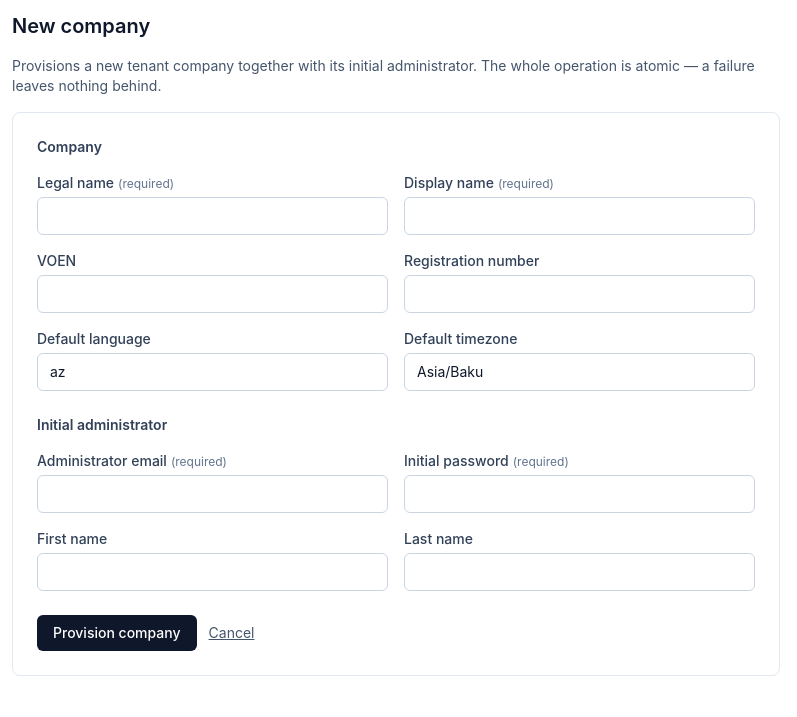
it: AdminCompanyCreatePage › shows backend field errors (duplicate VOEN)
Type "Acme LLC" into the field labelled "Legal name(required)" at (212, 216), box left=37, top=197, right=388, bottom=235
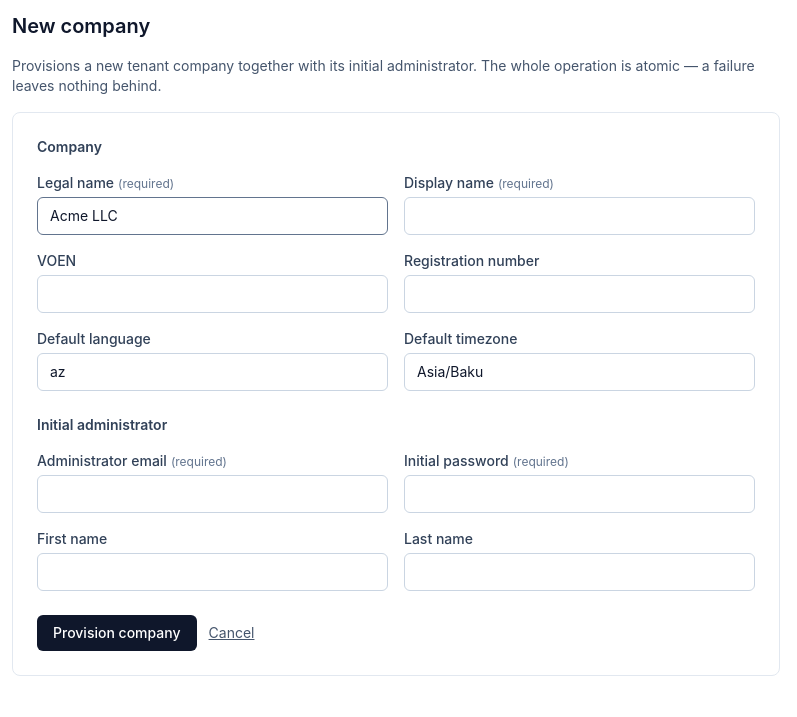
Type "Acme" into the field labelled "Display name(required)" at (580, 216), box left=404, top=197, right=755, bottom=235
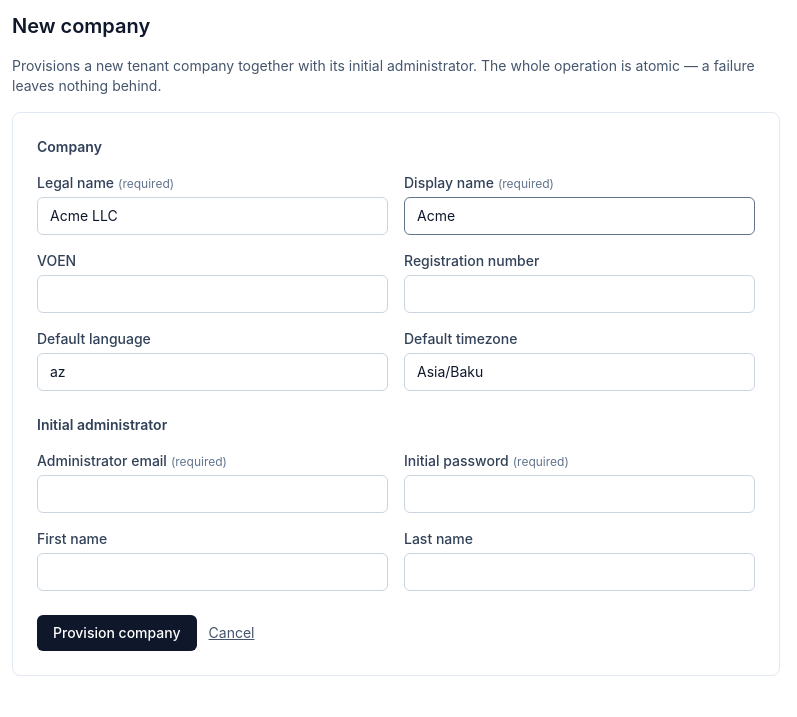
Type "owner@acme.example" into the field labelled "Administrator email(required)" at (212, 494), box left=37, top=475, right=388, bottom=513
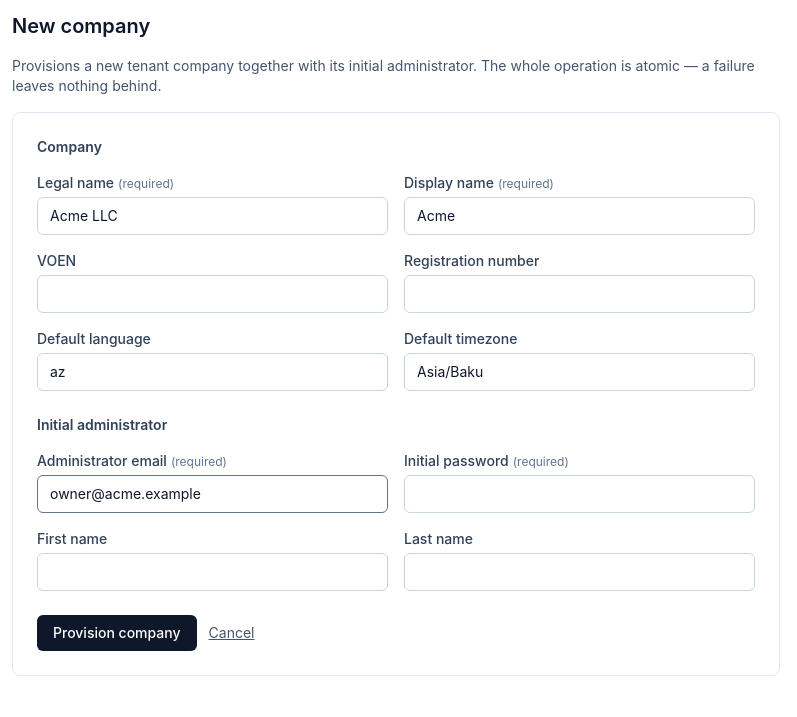
Type "Str0ng-pass-123!" into the password field labelled "Initial password(required)" at (580, 494), box left=404, top=475, right=755, bottom=513
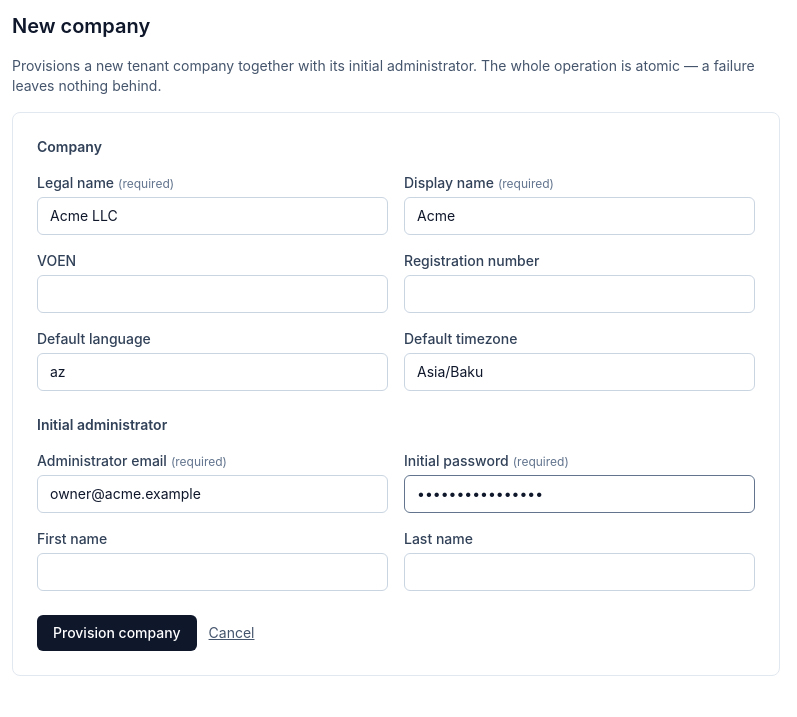
Click the button "Provision company" at (117, 633), box left=37, top=615, right=196, bottom=651
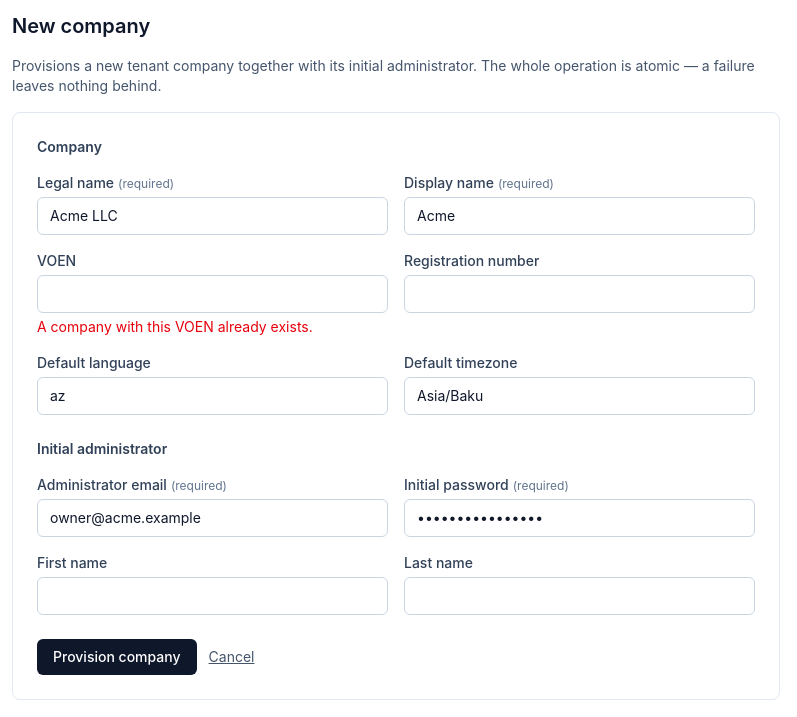
Result: the text "A company with this VOEN already exists." is shown at left=37, top=318, right=313, bottom=335
